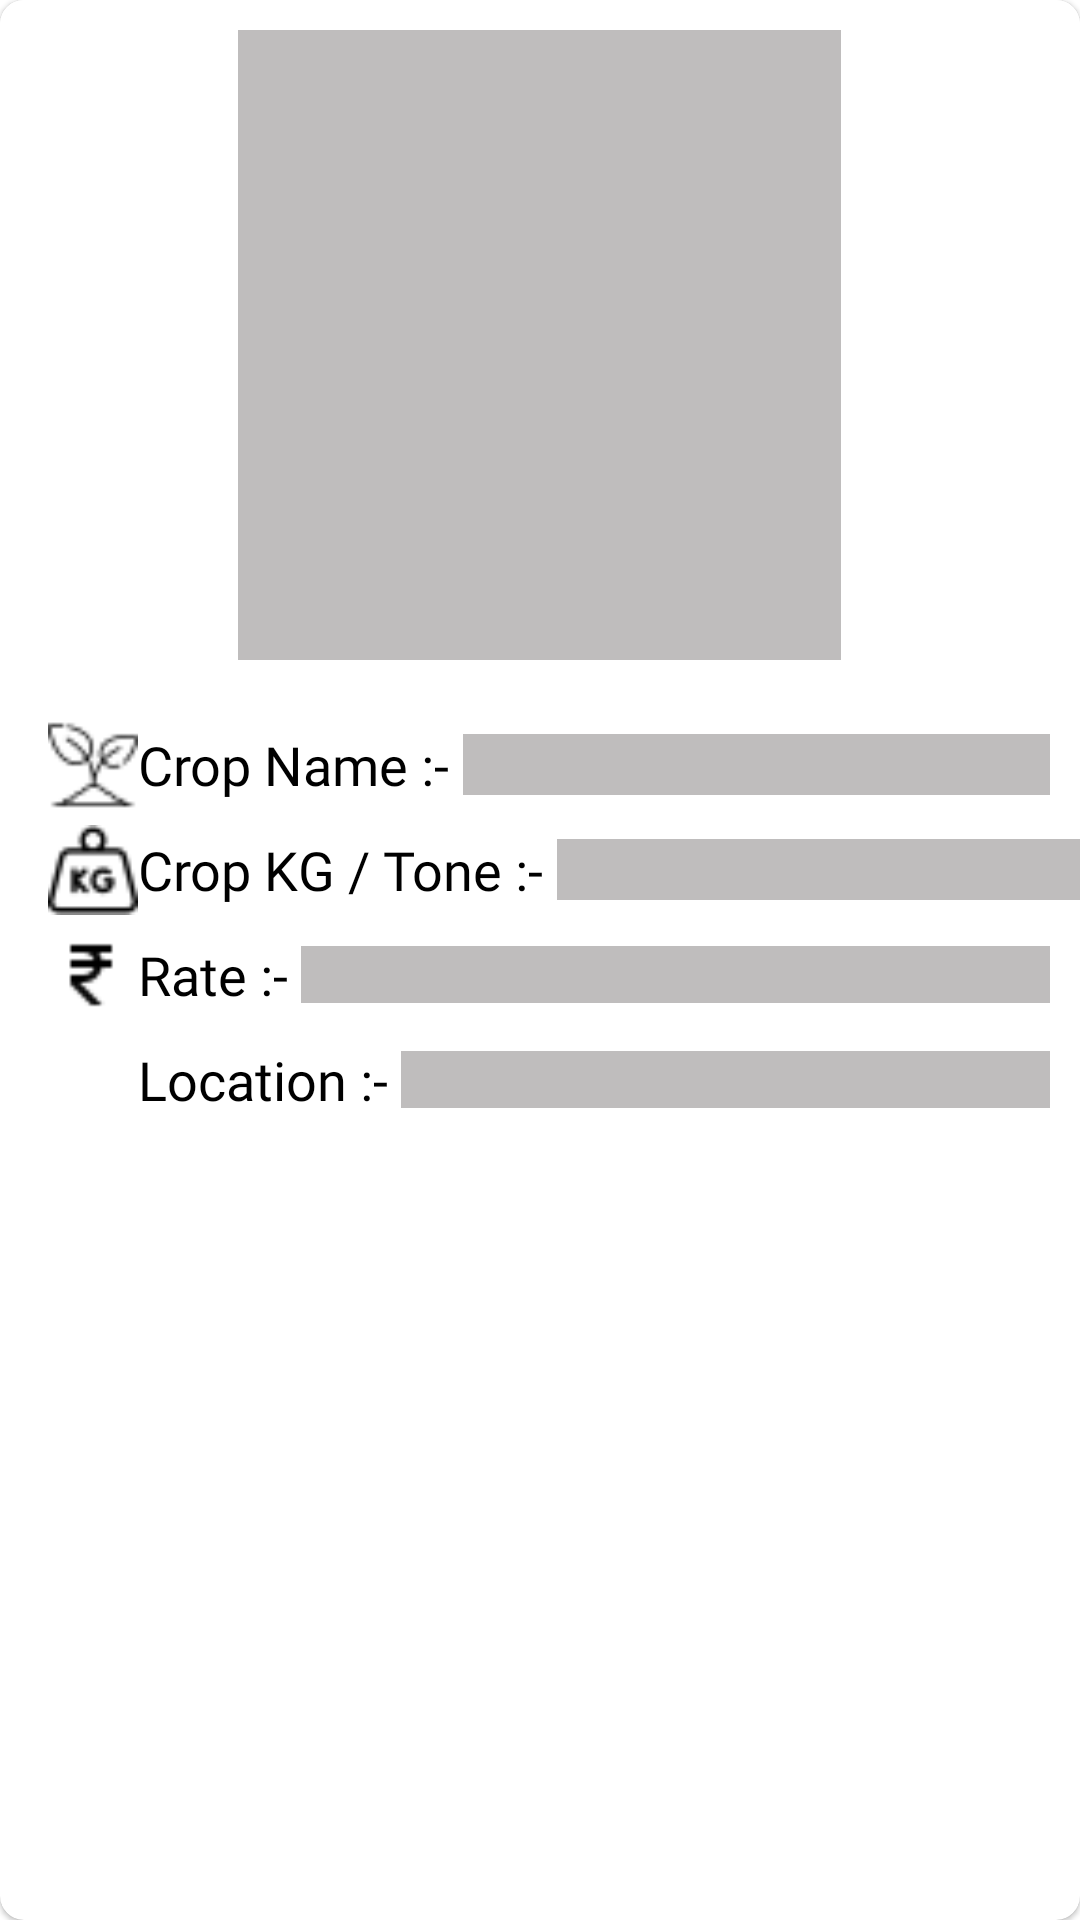

Named icons in this screenshot (1080×1920) and their bounding boxes, (x1, y1, x2, y2):
kilogram: (48, 825, 138, 915)
plant: (48, 722, 138, 808)
rupee: (69, 943, 113, 1007)
